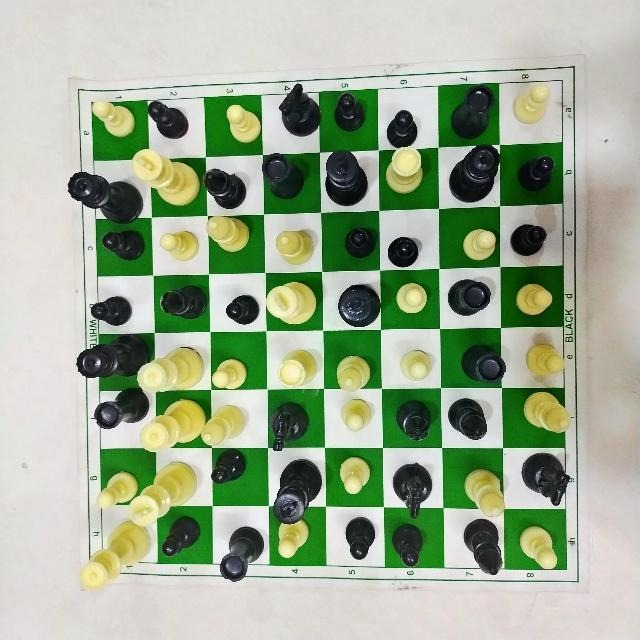black-bishop: (460, 516, 506, 578), (152, 280, 207, 322), (447, 396, 489, 443), (395, 398, 435, 446), (203, 167, 247, 208)
black-king: (270, 457, 322, 525), (322, 147, 370, 207), (336, 280, 382, 332)
black-knight: (522, 450, 571, 509), (388, 460, 433, 519), (267, 400, 314, 456), (277, 81, 321, 137)
black-pawn: (159, 514, 203, 561), (146, 97, 190, 140), (97, 229, 147, 266), (516, 153, 559, 192), (341, 517, 378, 562), (389, 523, 425, 566), (333, 89, 368, 133), (508, 221, 548, 257), (89, 294, 132, 327), (225, 293, 263, 328), (384, 110, 417, 148), (342, 225, 377, 259), (210, 450, 244, 484), (384, 235, 421, 266)
black-queen: (65, 169, 145, 223), (75, 334, 151, 382), (448, 142, 502, 204)
black-rook: (217, 522, 263, 584), (449, 82, 496, 142), (94, 385, 148, 433), (261, 150, 307, 204), (459, 340, 509, 386), (448, 278, 496, 318)
white-bishop: (518, 389, 577, 441), (460, 466, 509, 523), (197, 402, 246, 455), (335, 351, 371, 399), (206, 214, 252, 251), (272, 226, 315, 264)
white-king: (129, 460, 201, 528), (131, 145, 203, 208), (267, 280, 317, 331)
white-pawn: (516, 523, 561, 573), (511, 81, 555, 124), (90, 97, 138, 136), (94, 470, 140, 510), (223, 99, 261, 143), (335, 455, 372, 499), (208, 357, 253, 393), (523, 340, 565, 378), (277, 516, 313, 560), (514, 282, 556, 318), (461, 224, 498, 264), (393, 278, 429, 318), (156, 229, 199, 262), (338, 397, 374, 433), (398, 350, 434, 382)
white-queen: (135, 398, 208, 458), (80, 520, 146, 586), (139, 342, 209, 396)
white-rook: (382, 146, 426, 198), (275, 347, 318, 393)
